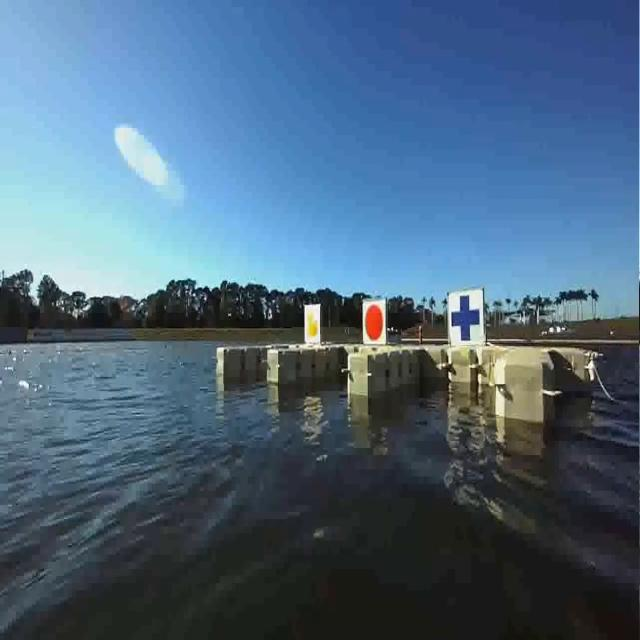blue-cross: (444, 282, 488, 348)
red-dot: (361, 286, 388, 350)
yellow-duck: (299, 300, 322, 343), (475, 348, 490, 359)
